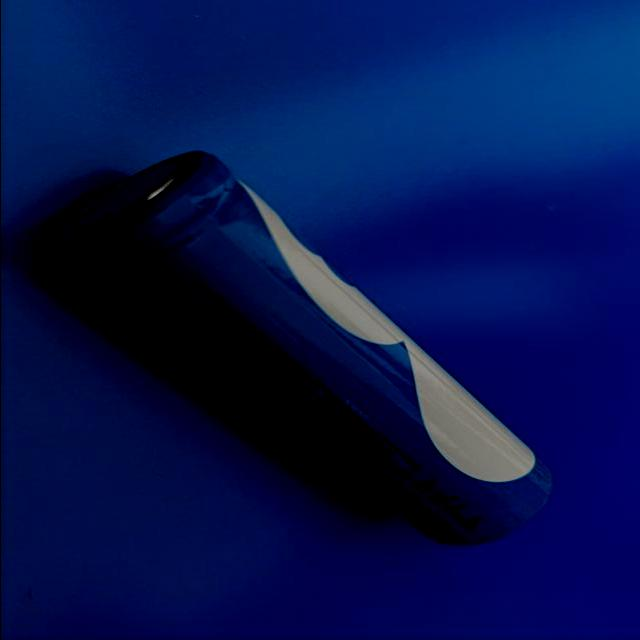AA: (51, 149, 554, 551)
